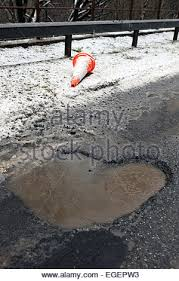pothole: (12, 140, 173, 230)
